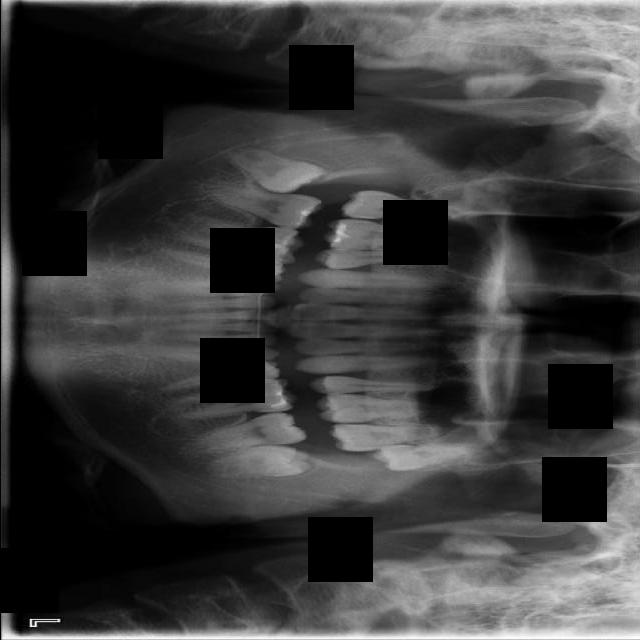52: (257, 180, 324, 240), (241, 214, 309, 273), (236, 373, 300, 420), (325, 218, 381, 253)
73: (48, 608, 62, 614)
BioHorizons Implant: (329, 422, 442, 453)
BioLife Implant: (374, 443, 468, 472)
Biomet 3i Implant: (219, 443, 314, 480)
Blue Sky Bio Implant: (195, 410, 308, 452)
Caries: (337, 190, 465, 222)
Implant: (199, 182, 323, 233)
Keystone Dental Implant: (221, 142, 330, 204)
